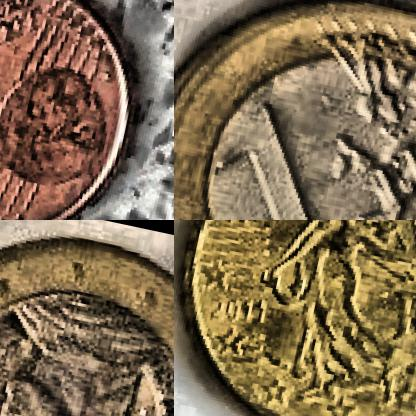coin: (174, 0, 415, 219), (174, 220, 415, 415), (0, 0, 156, 219), (0, 220, 173, 415)
